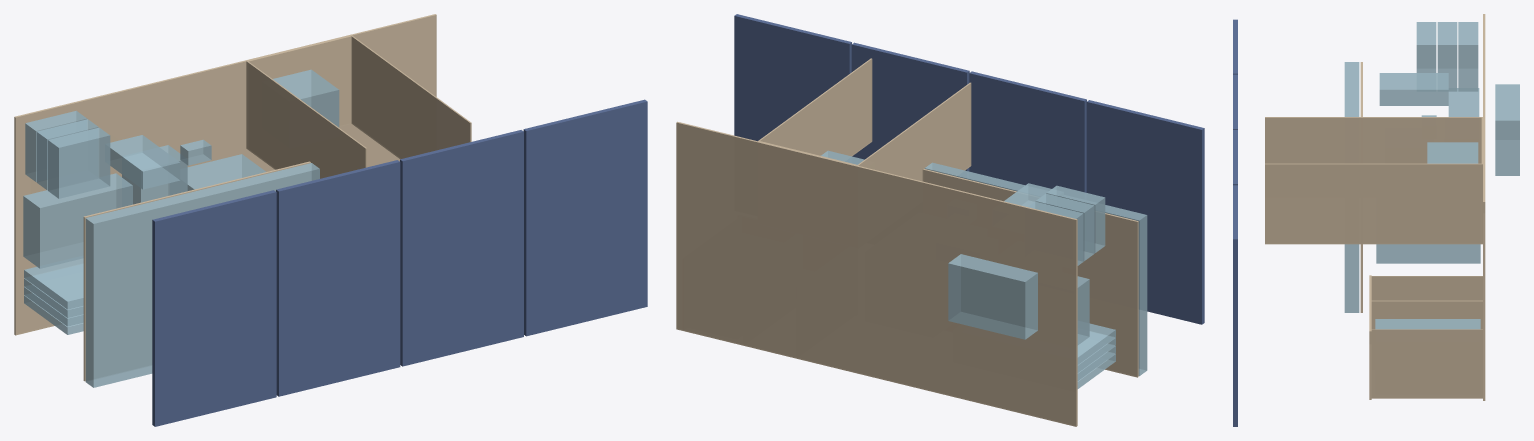
The model's file is A_fixa.glb.
3 views of the same model, side by side, from view 1: azimuth 30°, elevation 25°; view 2: azimuth 150°, elevation 25°; view 3: azimuth 270°, elevation 25° (orthographic). The views are drawn at different scales.
Parts seen in each view (by area): view 1: FVfixo__27_MAXEON_1, FVfixo__28_MAXEON_2, FVfixo__30_MAXEON_4, FVfixo__29_MAXEON_3, madeira__18_piso, equipamento__17_cama_colchao, madeira__21_parede_banho2, madeira__20_parede_banho, equipamento__6_tanque_limpa, equipamento__14_US5000_3, madeira__22_base_banho, equipamento__5_inversor (+8 smaller); view 2: madeira__18_piso, FVfixo__27_MAXEON_1, FVfixo__28_MAXEON_2, FVfixo__30_MAXEON_4, madeira__26_estrado, FVfixo__29_MAXEON_3, equipamento__7_tanque_cinza, madeira__21_parede_banho2, madeira__20_parede_banho, equipamento__17_cama_colchao, equipamento__13_US5000_2, equipamento__14_US5000_3 (+4 smaller); view 3: madeira__21_parede_banho2, madeira__20_parede_banho, madeira__25_divisoria_3.57, madeira__23_divisoria_2.54, equipamento__5_inversor, equipamento__7_tanque_cinza, madeira__24_divisoria_3.02, equipamento__15_lava_seca, equipamento__17_cama_colchao, equipamento__12_US5000_1, equipamento__13_US5000_2, FVfixo__30_MAXEON_4 (+10 smaller).
Boxes of the visible parts, bbox=[...] form: FVfixo__27_MAXEON_1: bbox=[152, 190, 276, 426]; FVfixo__28_MAXEON_2: bbox=[276, 160, 400, 396]; FVfixo__30_MAXEON_4: bbox=[523, 99, 647, 336]; FVfixo__29_MAXEON_3: bbox=[400, 130, 523, 366]; madeira__18_piso: bbox=[14, 14, 436, 335]; equipamento__17_cama_colchao: bbox=[85, 163, 319, 387]; madeira__21_parede_banho2: bbox=[351, 35, 471, 159]; madeira__20_parede_banho: bbox=[246, 61, 366, 178]; equipamento__6_tanque_limpa: bbox=[23, 173, 132, 268]; equipamento__14_US5000_3: bbox=[48, 127, 110, 198]; madeira__22_base_banho: bbox=[248, 36, 351, 126]; equipamento__5_inversor: bbox=[110, 135, 180, 189]; madeira__18_piso: bbox=[676, 121, 1077, 426]; FVfixo__27_MAXEON_1: bbox=[1086, 100, 1204, 324]; FVfixo__28_MAXEON_2: bbox=[969, 71, 1086, 192]; FVfixo__30_MAXEON_4: bbox=[734, 14, 851, 141]; madeira__26_estrado: bbox=[922, 169, 1138, 377]; FVfixo__29_MAXEON_3: bbox=[851, 42, 969, 171]; equipamento__7_tanque_cinza: bbox=[948, 254, 1037, 339]; madeira__21_parede_banho2: bbox=[758, 58, 872, 156]; madeira__20_parede_banho: bbox=[857, 82, 971, 181]; equipamento__17_cama_colchao: bbox=[924, 162, 1147, 376]; equipamento__13_US5000_2: bbox=[1035, 193, 1094, 261]; equipamento__14_US5000_3: bbox=[1046, 185, 1105, 252]; madeira__21_parede_banho2: bbox=[1265, 163, 1482, 244]; madeira__20_parede_banho: bbox=[1265, 117, 1482, 163]; madeira__25_divisoria_3.57: bbox=[1371, 329, 1482, 398]; madeira__23_divisoria_2.54: bbox=[1371, 276, 1482, 300]; equipamento__5_inversor: bbox=[1379, 73, 1448, 105]; equipamento__7_tanque_cinza: bbox=[1495, 84, 1519, 175]; madeira__24_divisoria_3.02: bbox=[1371, 300, 1482, 329]; equipamento__15_lava_seca: bbox=[1376, 244, 1480, 263]; equipamento__17_cama_colchao: bbox=[1344, 62, 1359, 312]; equipamento__12_US5000_1: bbox=[1458, 22, 1478, 91]; equipamento__13_US5000_2: bbox=[1437, 22, 1457, 91]; FVfixo__30_MAXEON_4: bbox=[1233, 185, 1237, 426].
Bounding box in the file's own units: 4.27 × 1.79 × 2.34.
